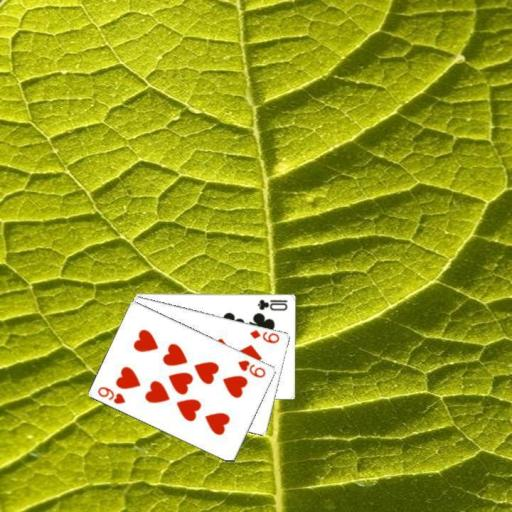card-corner: (235, 357, 267, 379), (95, 384, 127, 406), (247, 326, 281, 345), (254, 296, 288, 311)
